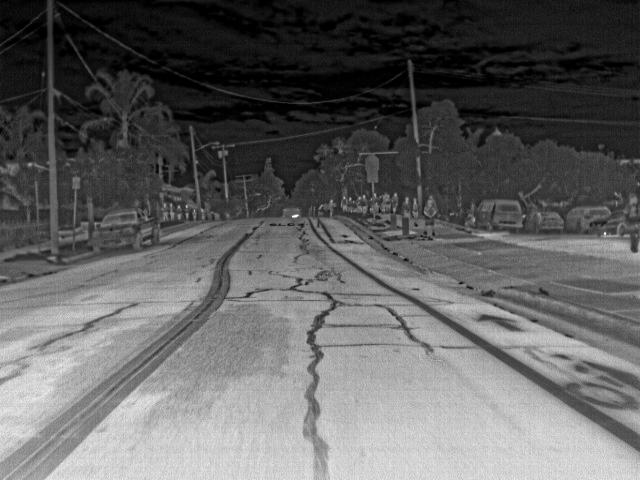car: (89, 206, 160, 255), (477, 198, 523, 230), (526, 209, 564, 234), (590, 209, 623, 236), (564, 206, 591, 234), (282, 206, 301, 218)
person: (623, 191, 639, 253), (422, 201, 436, 237), (464, 200, 478, 227), (358, 192, 371, 220), (159, 199, 172, 224), (401, 193, 413, 219), (388, 189, 400, 215), (381, 190, 393, 216), (373, 192, 385, 217), (410, 196, 420, 224), (338, 194, 351, 215), (347, 196, 360, 216), (325, 198, 337, 219), (183, 202, 193, 222), (176, 204, 185, 223), (169, 201, 177, 222), (190, 207, 198, 221)
